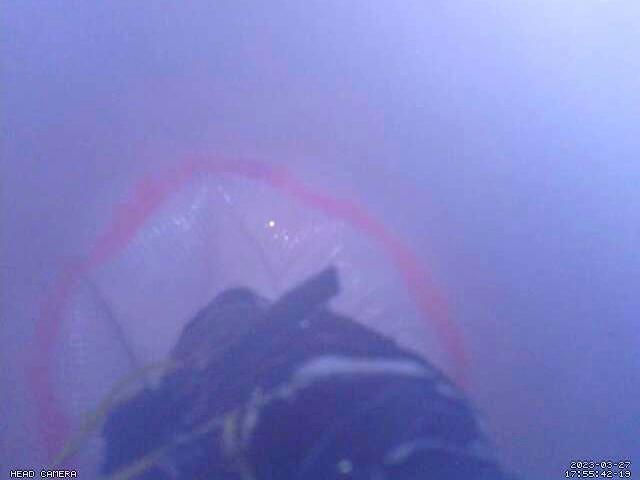head: (25, 151, 477, 480)
